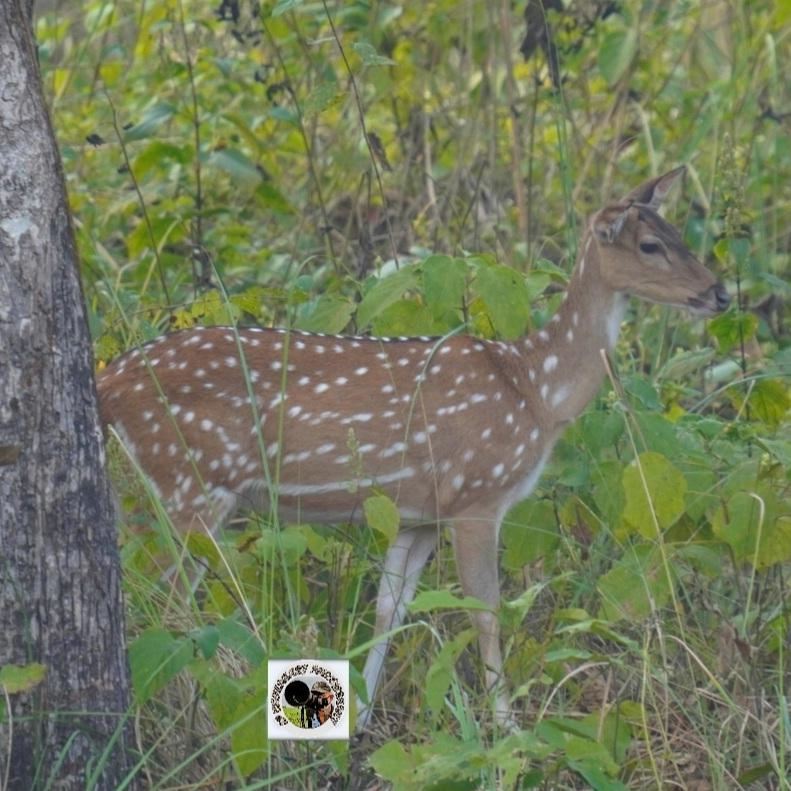Deer: (98, 169, 730, 634)
